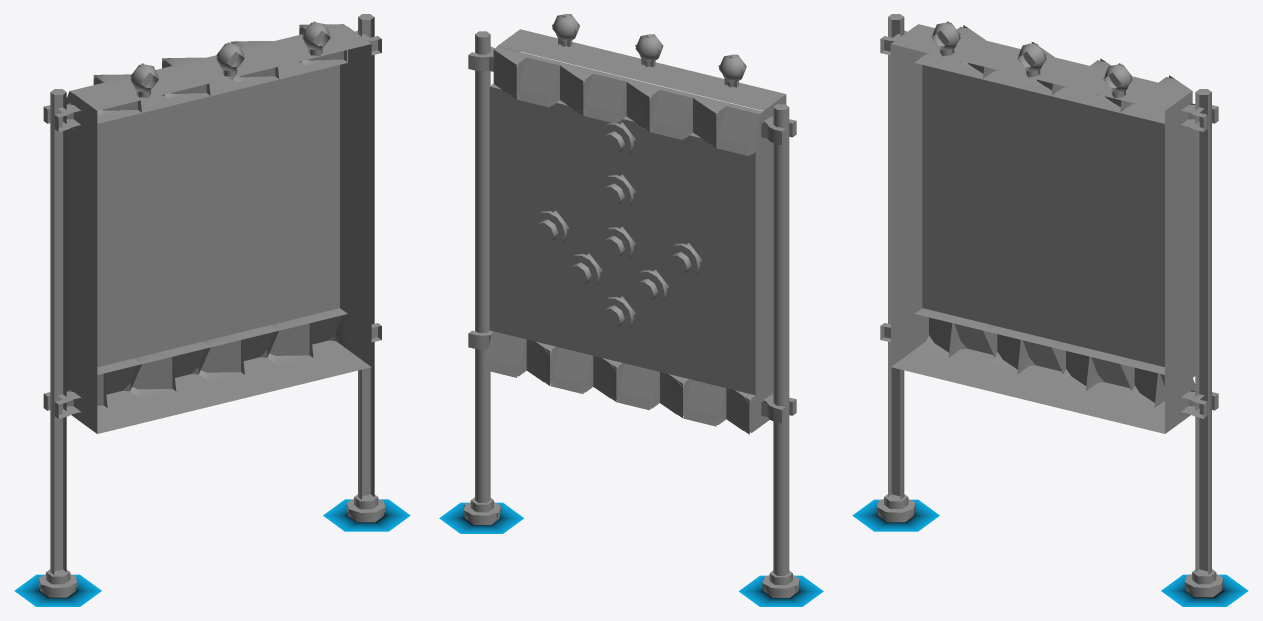
The model's file is Custom_Barrier_Mid.fbx.
3 renders of one model, left to right at view 1: azimuth 30°, elevation 25°; view 2: azimuth 150°, elevation 25°; view 3: azimuth 330°, elevation 25°, orthographic. The views are drawn at different scales.
Parts seen in each view (by area): view 1: Custom_Barrier_Mid, Custom_Barrier_Mid_LOD, Custom_Barrier_Mid_Shadow; view 2: Custom_Barrier_Mid, Custom_Barrier_Mid_LOD, Custom_Barrier_Mid_Shadow; view 3: Custom_Barrier_Mid, Custom_Barrier_Mid_LOD, Custom_Barrier_Mid_Shadow.
Boxes of the visible parts, x1=… form: Custom_Barrier_Mid: x1=38, y1=14, x2=385, y2=597; Custom_Barrier_Mid_LOD: x1=39, y1=20, x2=381, y2=587; Custom_Barrier_Mid_Shadow: x1=14, y1=499, x2=410, y2=606; Custom_Barrier_Mid: x1=463, y1=14, x2=799, y2=597; Custom_Barrier_Mid_LOD: x1=464, y1=15, x2=796, y2=590; Custom_Barrier_Mid_Shadow: x1=439, y1=502, x2=823, y2=606; Custom_Barrier_Mid: x1=876, y1=14, x2=1223, y2=597; Custom_Barrier_Mid_LOD: x1=880, y1=20, x2=1222, y2=587; Custom_Barrier_Mid_Shadow: x1=852, y1=499, x2=1248, y2=606.
Size of the model in its own units: 2.7 by 3.63 by 0.5699.
